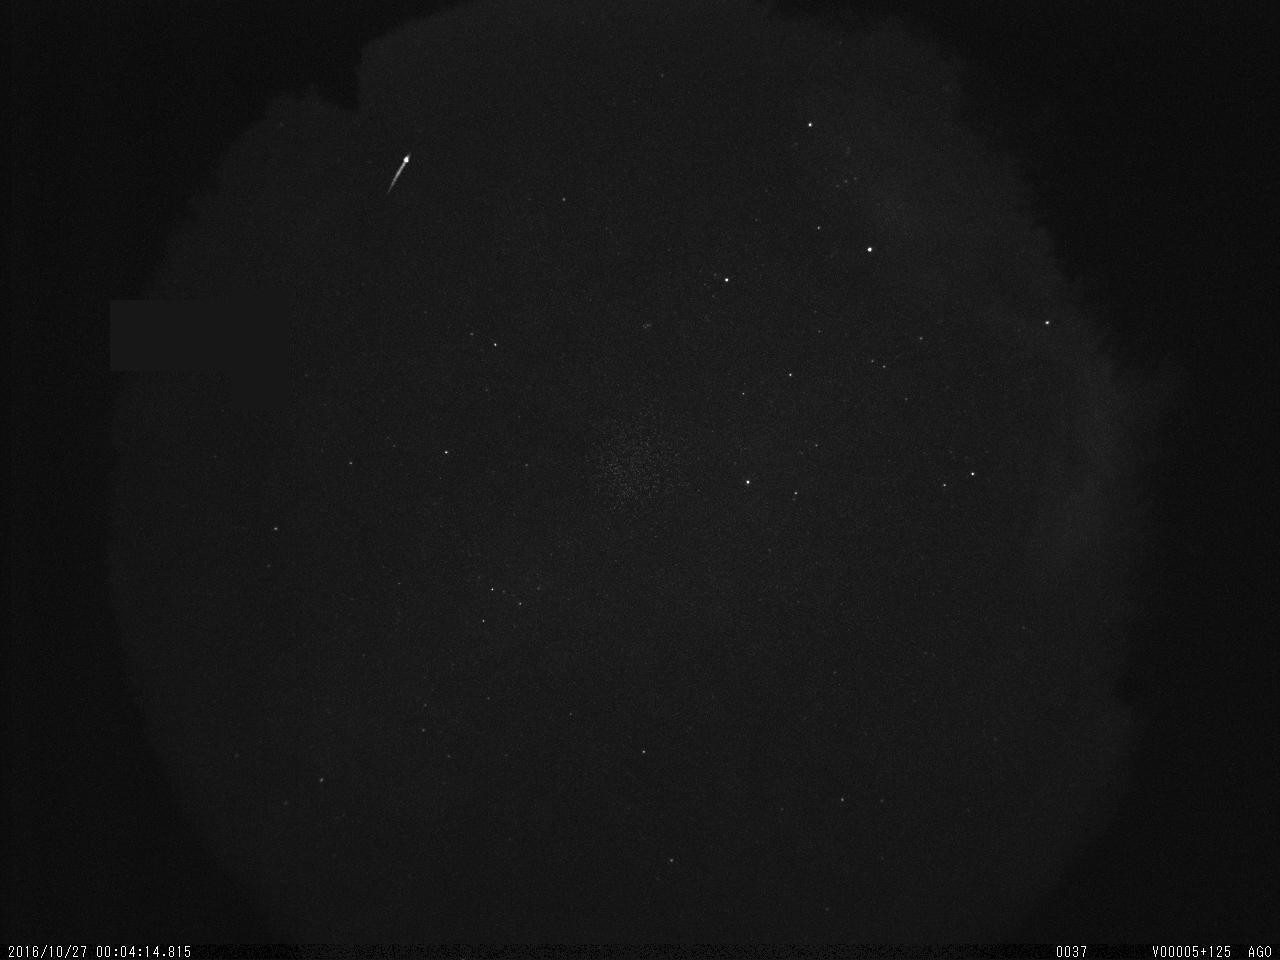meteor: (379, 138, 419, 227)
